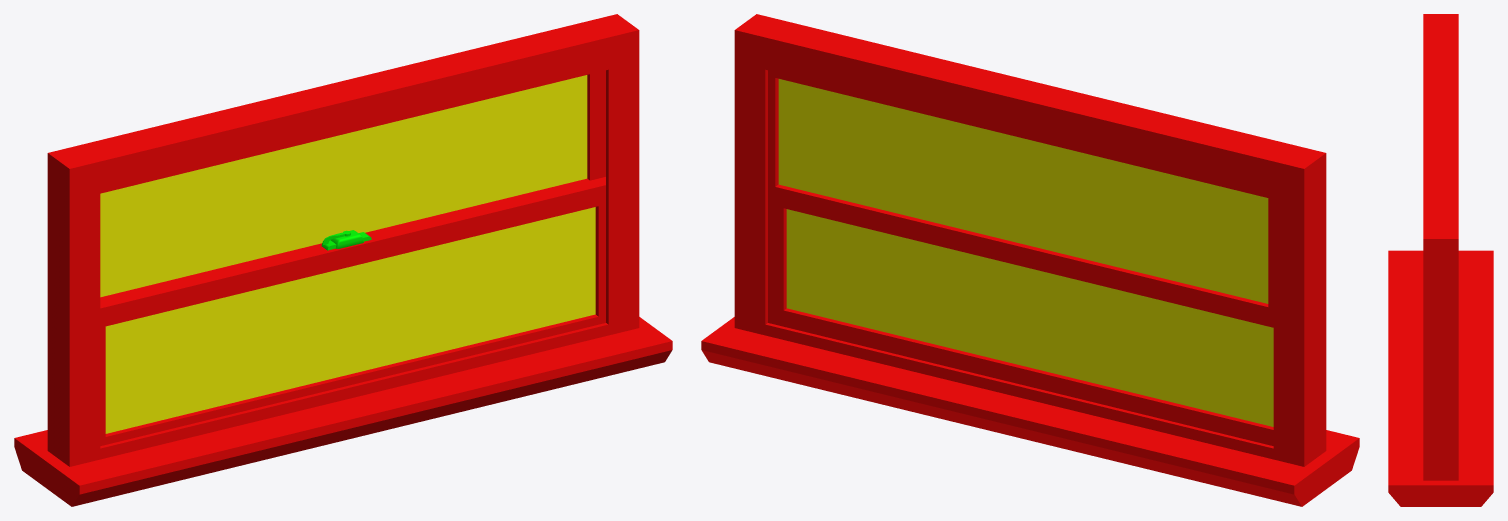
File: window_hung_48x24.glb
3 views of the same model, side by side, from view 1: azimuth 30°, elevation 25°; view 2: azimuth 150°, elevation 25°; view 3: azimuth 270°, elevation 25° (orthographic). The views are drawn at different scales.
Visible parts, largest first — view 1: window_hung_48x24; view 2: window_hung_48x24; view 3: window_hung_48x24.
Boxes of the visible parts, left/top/right/bottom form: window_hung_48x24: left=14, top=14, right=672, bottom=506; window_hung_48x24: left=701, top=14, right=1359, bottom=506; window_hung_48x24: left=1388, top=14, right=1493, bottom=506.
Bounding box in the file's own units: 1.27 × 0.6646 × 0.2416.
